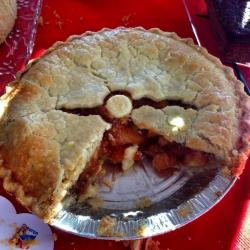apple_pie: (6, 28, 250, 218)
